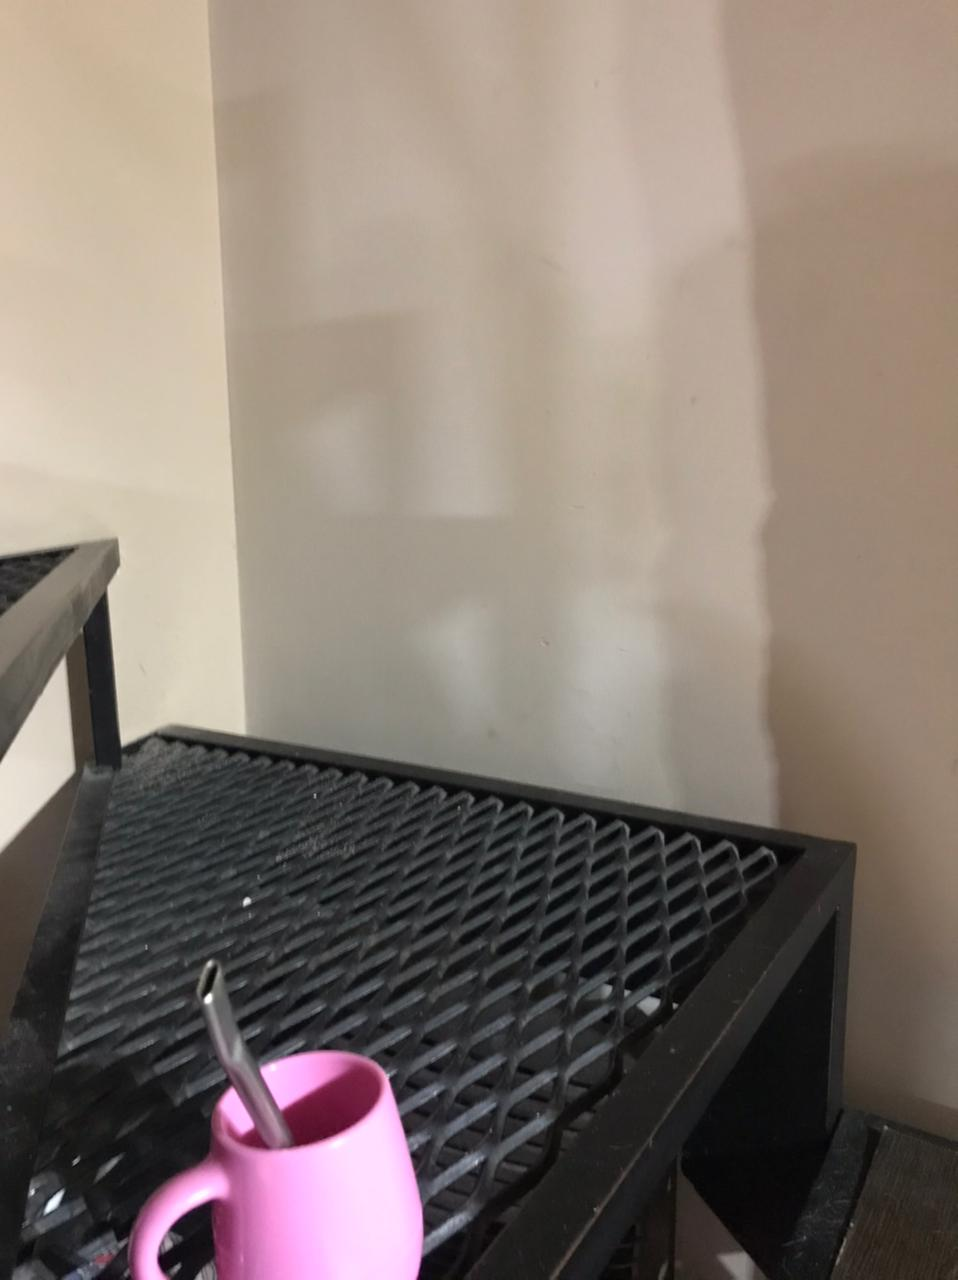mate: (105, 960, 477, 1280)
